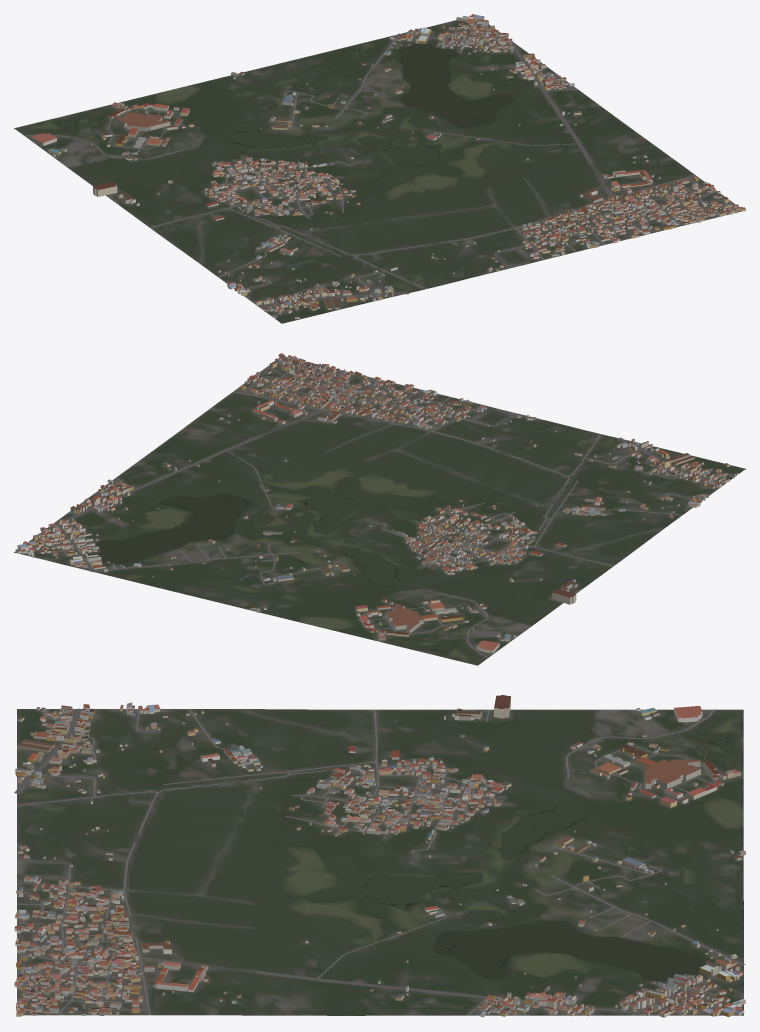
3 renders of one model, top to bottom at view 1: azimuth 30°, elevation 25°; view 2: azimuth 150°, elevation 25°; view 3: azimuth 270°, elevation 25°, orthographic. The views are drawn at different scales.
Parts seen in each view (by area): view 1: ground, buildings, water, roads; view 2: ground, buildings, water, roads; view 3: ground, buildings, water, roads.
Boxes of the visible parts, x1,y1,x2,y2 form: ground: [14, 18, 741, 323]; buildings: [30, 14, 745, 318]; water: [53, 44, 512, 166]; roads: [24, 21, 722, 315]; ground: [14, 357, 745, 665]; buildings: [15, 353, 738, 653]; water: [96, 493, 454, 653]; roads: [32, 362, 732, 657]; ground: [17, 709, 743, 1015]; buildings: [14, 695, 745, 1017]; water: [362, 732, 731, 980]; roads: [14, 708, 745, 1015].
Bounding box in the file's own units: 1432 × 24.92 × 1412.
